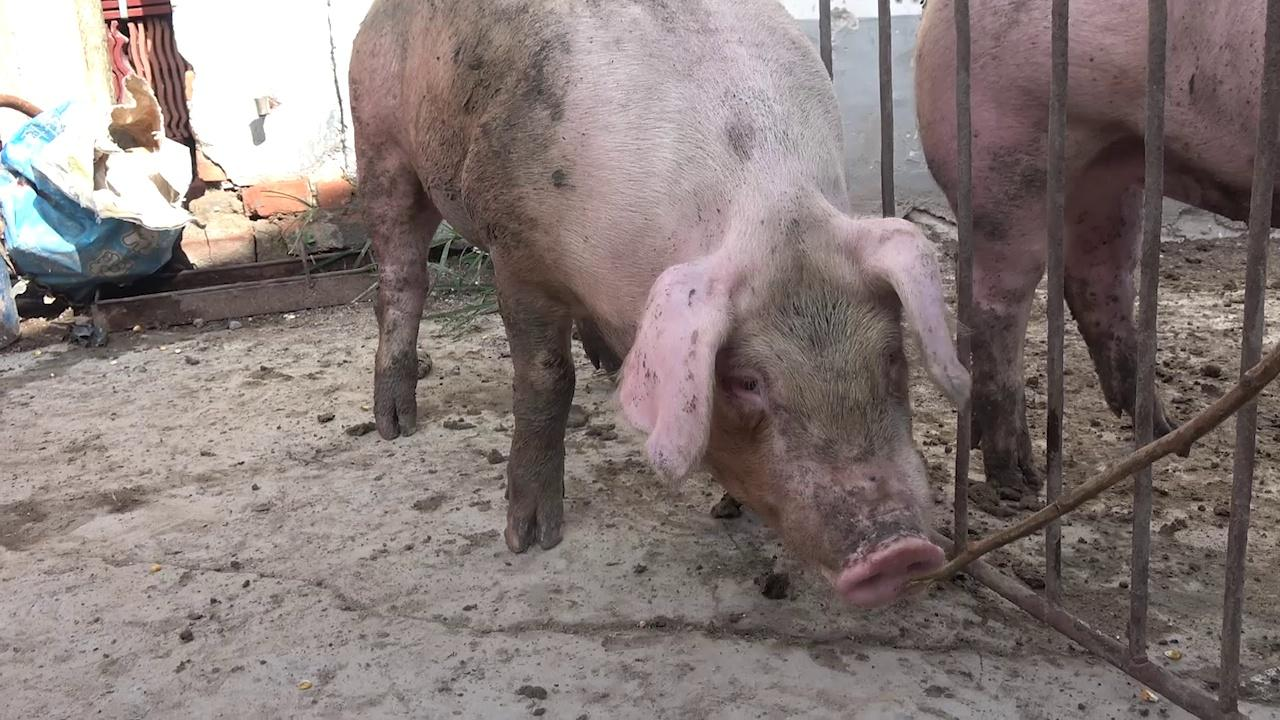Face: (607, 206, 985, 619)
